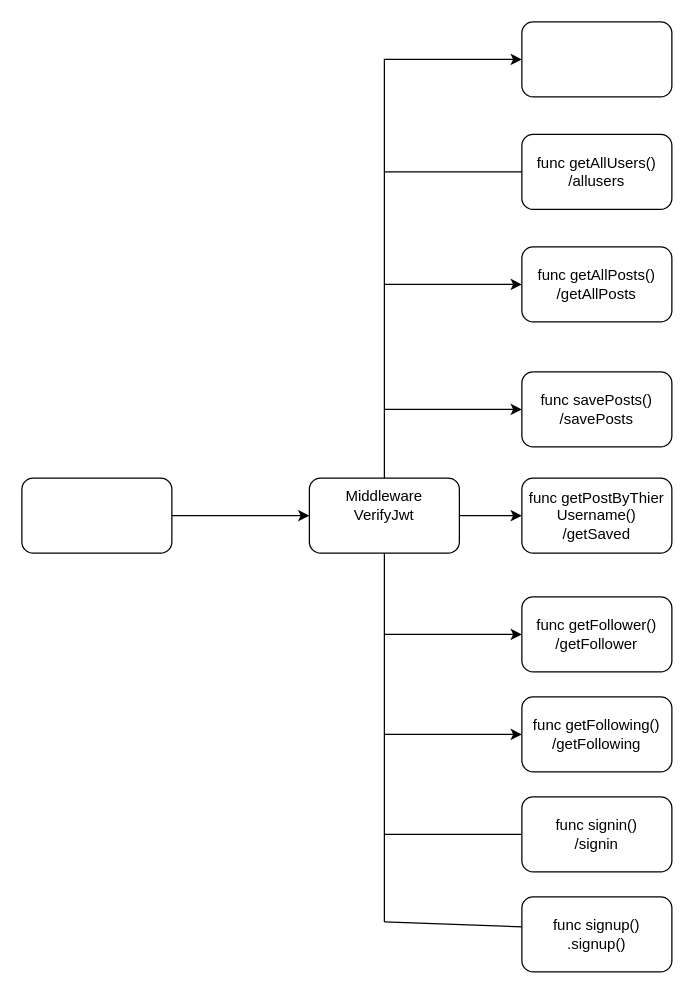
This 694x994 diagram has some shape labels left out. Here are the shapes that lost their labels. From the top down, the centre of each, then its label:
point 596,59: func postSender() /sendPosts
point 96,515: api/v1/auth
